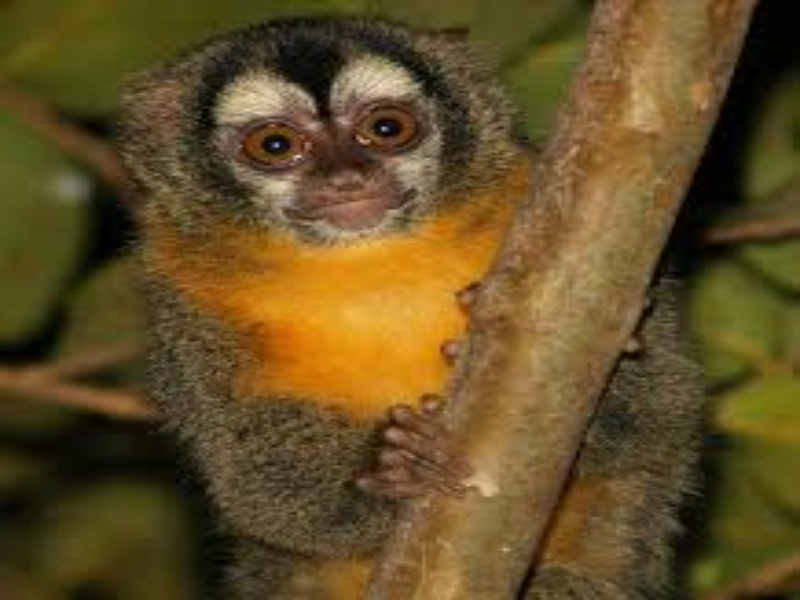monkey: (112, 6, 719, 586)
